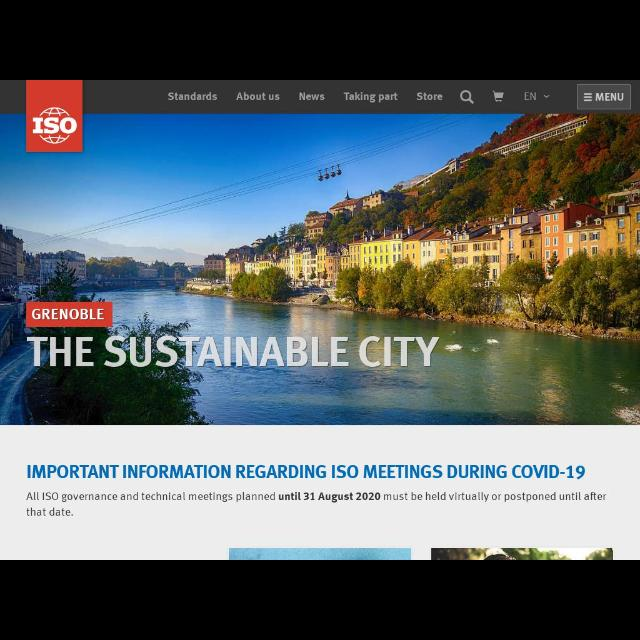backgroundimage: (1, 115, 639, 425)
icon: (460, 90, 474, 104), (492, 90, 503, 102), (584, 94, 592, 102), (544, 94, 550, 98)
image: (32, 108, 78, 144)
panel: (576, 85, 630, 109)
spinner: (524, 91, 550, 101)
text: (25, 492, 607, 516), (27, 337, 440, 367), (28, 464, 586, 480), (32, 308, 104, 320), (344, 91, 398, 102), (167, 92, 217, 101), (238, 92, 280, 101), (596, 93, 624, 101), (299, 93, 325, 101), (417, 92, 443, 100), (525, 92, 537, 100)
toolbar: (1, 80, 639, 114)
